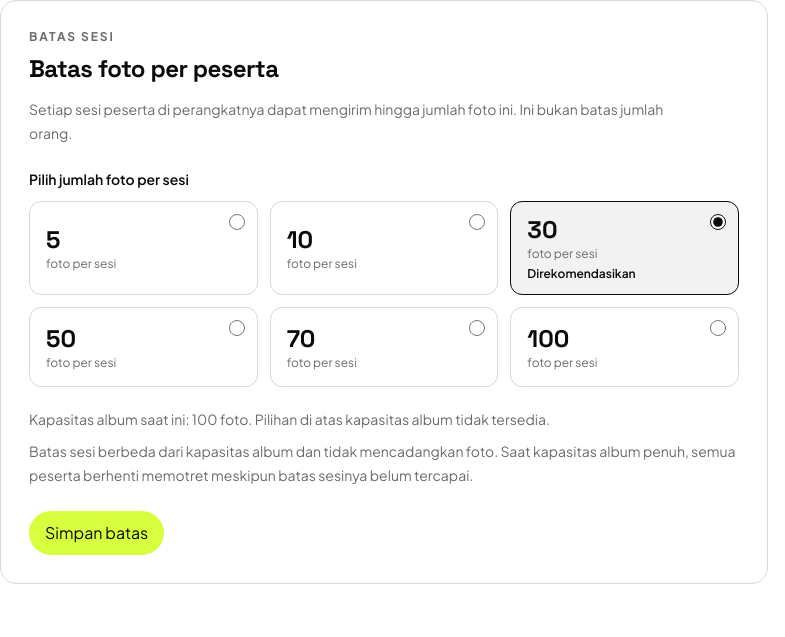
Test case: FE-3 Host album surfaces › rehydrates the default and writes only the selected limit with the settings revision
The width and height of the screenshot is (785, 637).
Expected: the radio button labelled "30 foto per sesi Direkomendasikan" is checked, [710,214,726,230]
Expected: the radio button labelled "5 foto per sesi" is enabled, [229,214,245,230]
Click the radio button labelled "100 foto per sesi" at (718, 328), box [710,320,726,336]
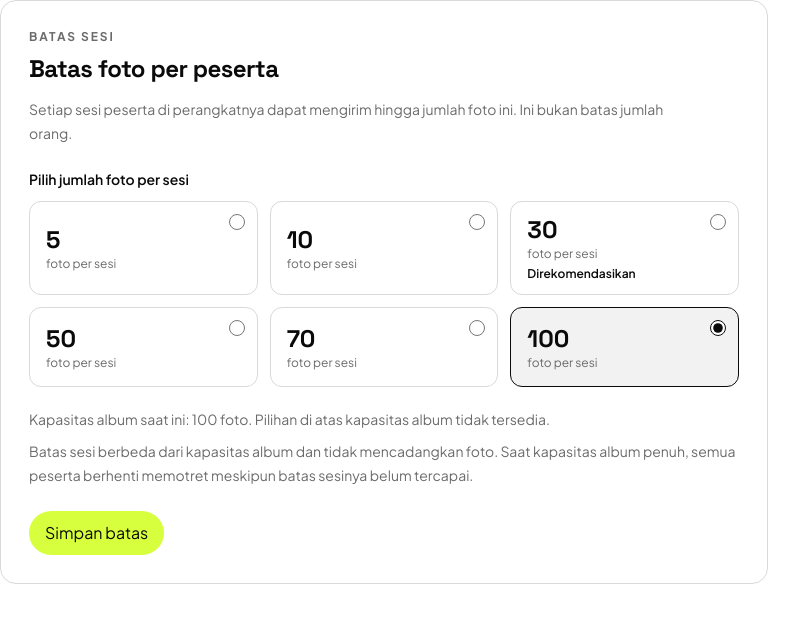
Click the button "Simpan batas" at (97, 533), box [29,511,164,555]
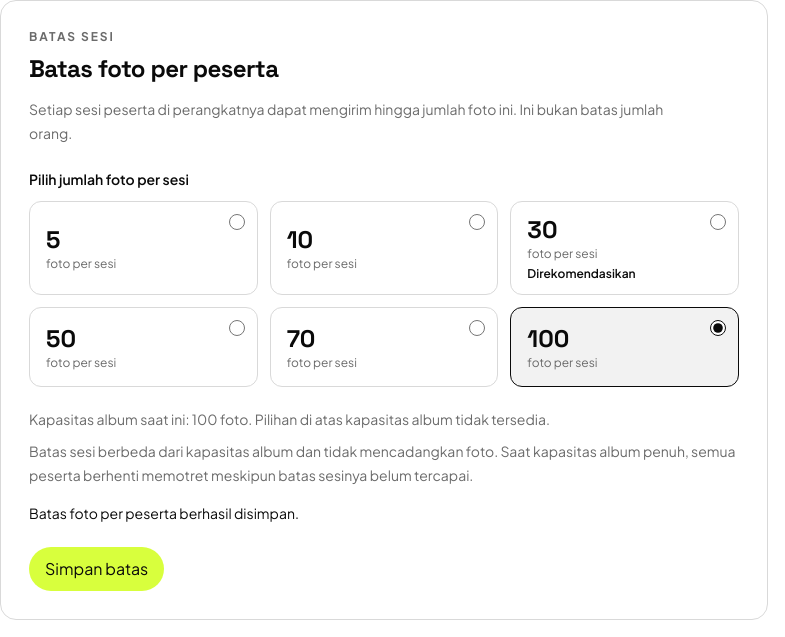
Now the radio button labelled "100 foto per sesi" is checked, box [710,320,726,336]
Now the text "Batas foto per peserta berhasil disimpan." is shown, box [29,504,299,522]
